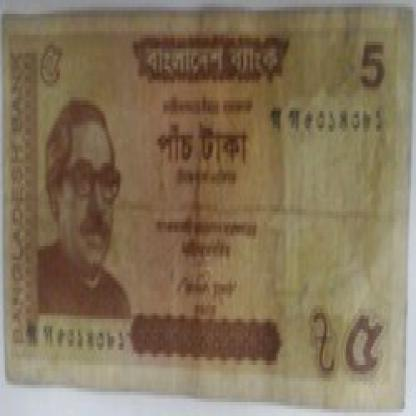Five Taka: (152, 118, 250, 177), (341, 302, 391, 395), (356, 28, 386, 100), (33, 35, 67, 94)
